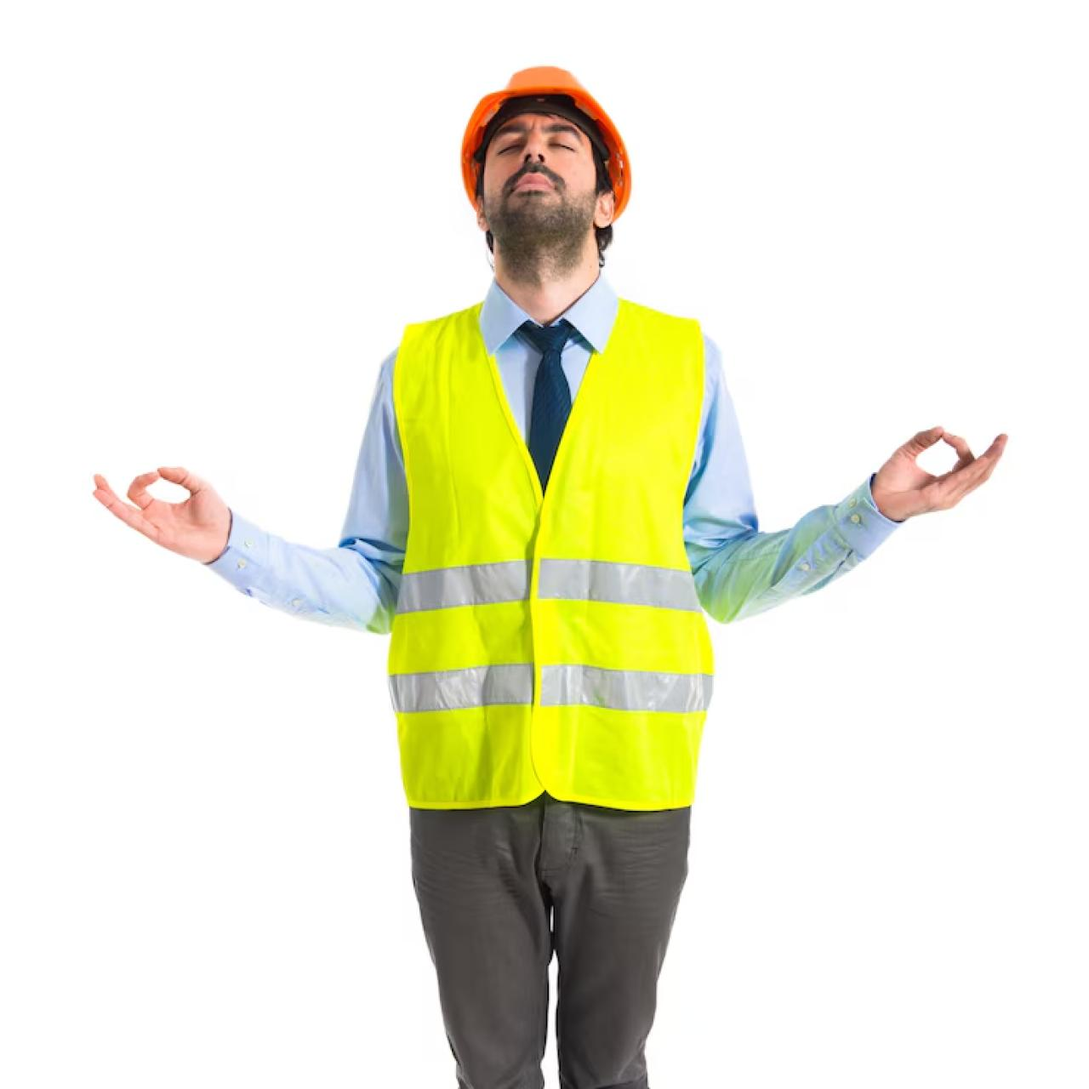Person: (67, 26, 1034, 1087)
Safety_Vest: (378, 289, 713, 814)
